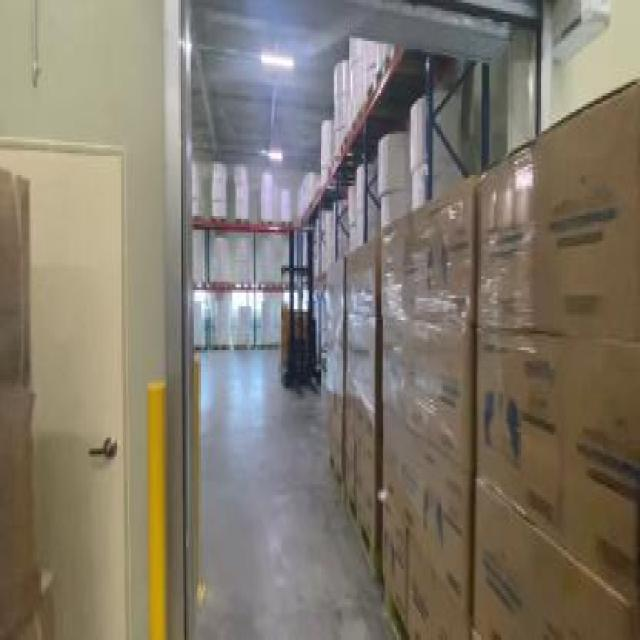box: (474, 76, 638, 634), (326, 175, 479, 637)
robot: (279, 219, 323, 399)
white_roll: (411, 90, 460, 202), (377, 131, 414, 222), (346, 162, 380, 246), (332, 58, 354, 150), (351, 36, 377, 112), (326, 200, 349, 257), (208, 159, 228, 213), (232, 167, 250, 224), (211, 232, 231, 282), (258, 170, 276, 224), (212, 296, 232, 344), (296, 170, 316, 213), (317, 118, 332, 172), (234, 235, 251, 279), (260, 236, 275, 284), (235, 298, 251, 342), (190, 161, 202, 219), (257, 301, 272, 347), (278, 189, 296, 224)
